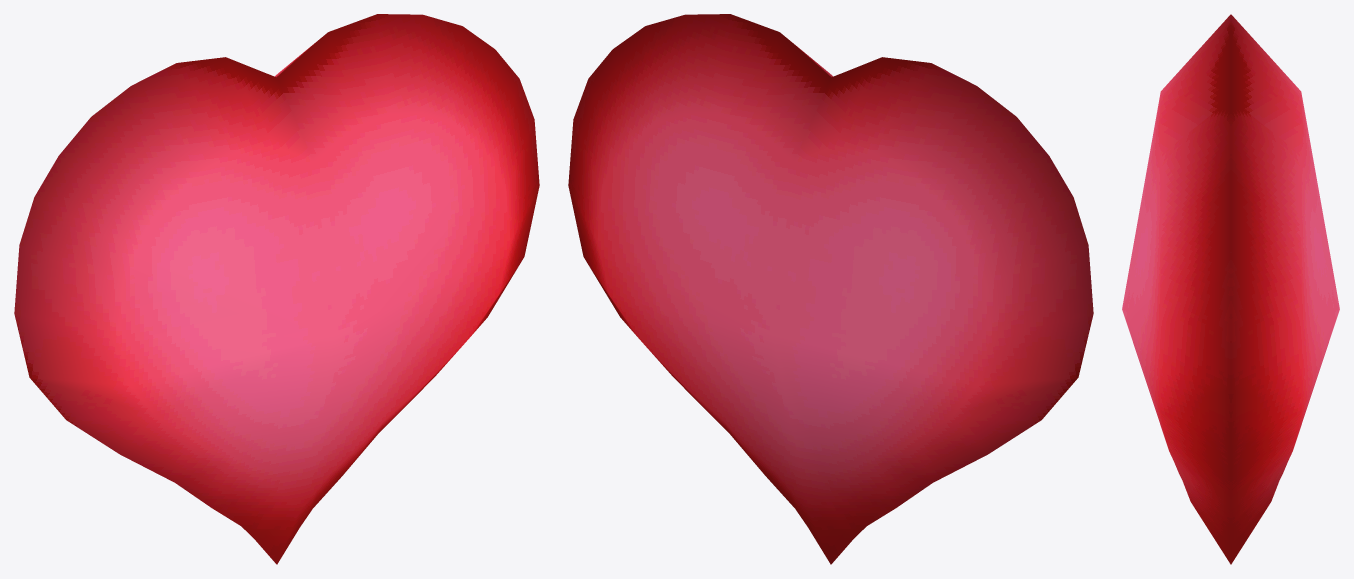
The model's file is ps2_save-icons_heartbeatboxing.glb.
The picture shows the model from 3 angles, left to right: view 1: azimuth 30°, elevation 25°; view 2: azimuth 150°, elevation 25°; view 3: azimuth 270°, elevation 25°; orthographic projection. The views are drawn at different scales.
Visible parts, largest first — view 1: mc_ico00.ico; view 2: mc_ico00.ico; view 3: mc_ico00.ico.
Part boxes in pixels (x1=…): mc_ico00.ico: x1=14, y1=14, x2=539, y2=564; mc_ico00.ico: x1=568, y1=14, x2=1093, y2=564; mc_ico00.ico: x1=1122, y1=14, x2=1339, y2=564.
Size of the model in its own units: 4.8 by 4.6 by 1.83.
Materials: 1 (1 with a texture image).
